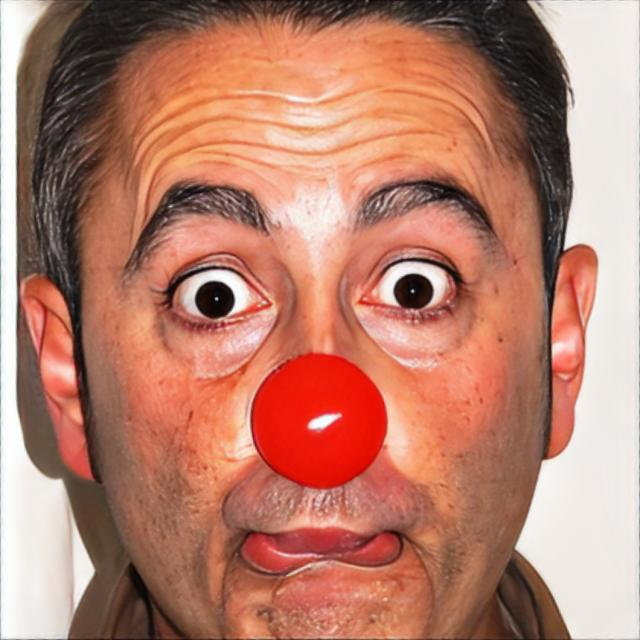fear: (81, 10, 550, 640)
